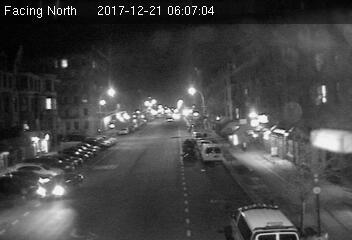car: (33, 173, 87, 201)
police: (225, 201, 309, 240)
truck: (201, 143, 224, 165)
